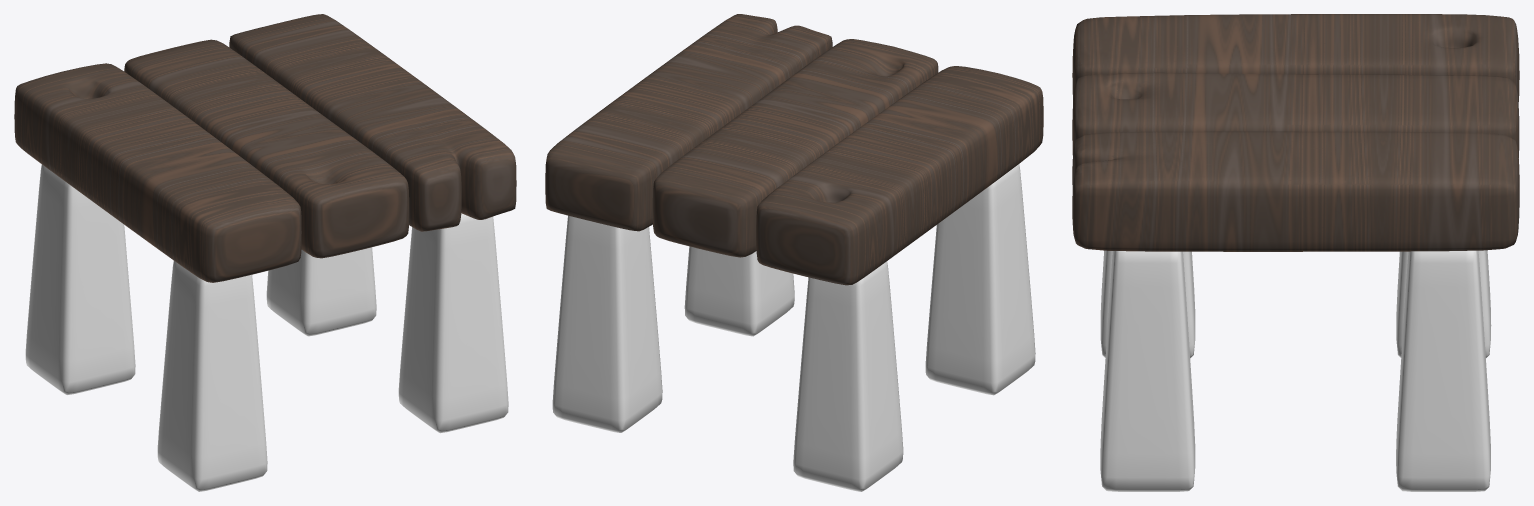
3 renders of one model, left to right at view 1: azimuth 30°, elevation 25°; view 2: azimuth 150°, elevation 25°; view 3: azimuth 270°, elevation 25°, orthographic. The views are drawn at different scales.
Visible parts, largest first — view 1: Furniture.005; view 2: Furniture.005; view 3: Furniture.005.
Boxes of the visible parts, bbox=[...] form: Furniture.005: bbox=[14, 14, 516, 491]; Furniture.005: bbox=[545, 14, 1043, 491]; Furniture.005: bbox=[1072, 14, 1519, 491].
Bounding box in the file's own units: 0.601 × 0.5087 × 0.6577.
2 materials, 1 textured.
